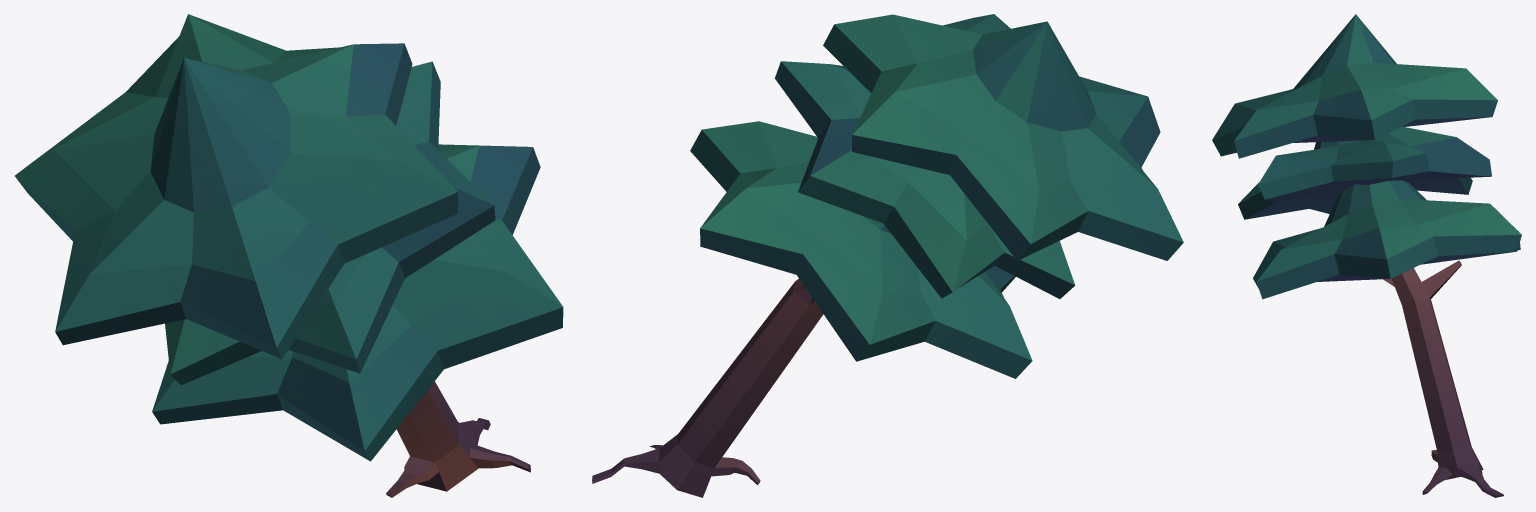
The model's file is PineSidewaysTree.fbx.
3 renders of one model, left to right at view 1: azimuth 30°, elevation 25°; view 2: azimuth 150°, elevation 25°; view 3: azimuth 270°, elevation 25°, orthographic. The views are drawn at different scales.
Visible parts, largest first — view 1: BrokenTreeTrunk; view 2: BrokenTreeTrunk; view 3: BrokenTreeTrunk.
Boxes of the visible parts, x1,y1,x2,y2 form: BrokenTreeTrunk: (15, 14, 563, 497); BrokenTreeTrunk: (592, 14, 1183, 497); BrokenTreeTrunk: (1212, 14, 1521, 497).
Size of the model in its own units: 363 by 350 by 271.
